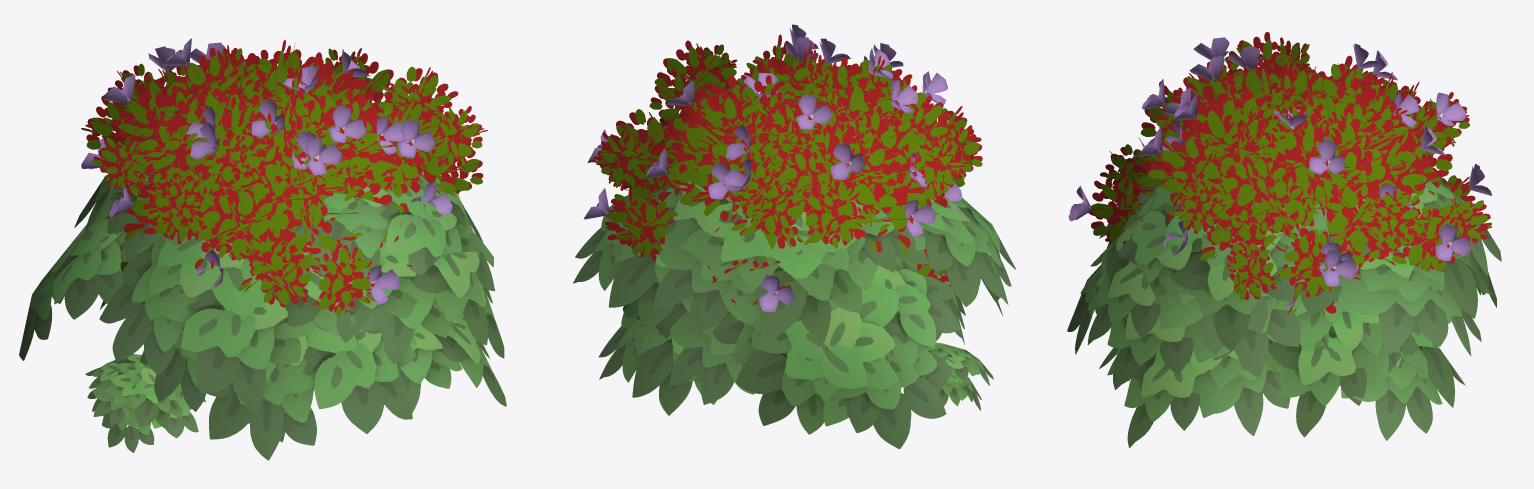
The model's file is bushes.glb.
3 renders of one model, left to right at view 1: azimuth 30°, elevation 25°; view 2: azimuth 150°, elevation 25°; view 3: azimuth 270°, elevation 25°, orthographic. The views are drawn at different scales.
Parts seen in each view (by area): view 1: Bush_Large, Bush_Common_Flowers, Bush_Common; view 2: Bush_Large, Bush_Common_Flowers, Bush_Common; view 3: Bush_Large, Bush_Common_Flowers, Bush_Common.
Boxes of the visible parts, x1,y1,x2,y2 form: Bush_Large: [19, 167, 506, 460]; Bush_Common_Flowers: [81, 38, 482, 361]; Bush_Common: [81, 40, 487, 329]; Bush_Large: [573, 181, 1015, 449]; Bush_Common_Flowers: [584, 24, 982, 317]; Bush_Common: [588, 34, 982, 320]; Bush_Large: [1067, 170, 1501, 447]; Bush_Common_Flowers: [1068, 37, 1492, 316]; Bush_Common: [1088, 32, 1491, 314].
Bounding box in the file's own units: 2.07 × 1.64 × 2.07.
Materials: 4 (4 with a texture image).
